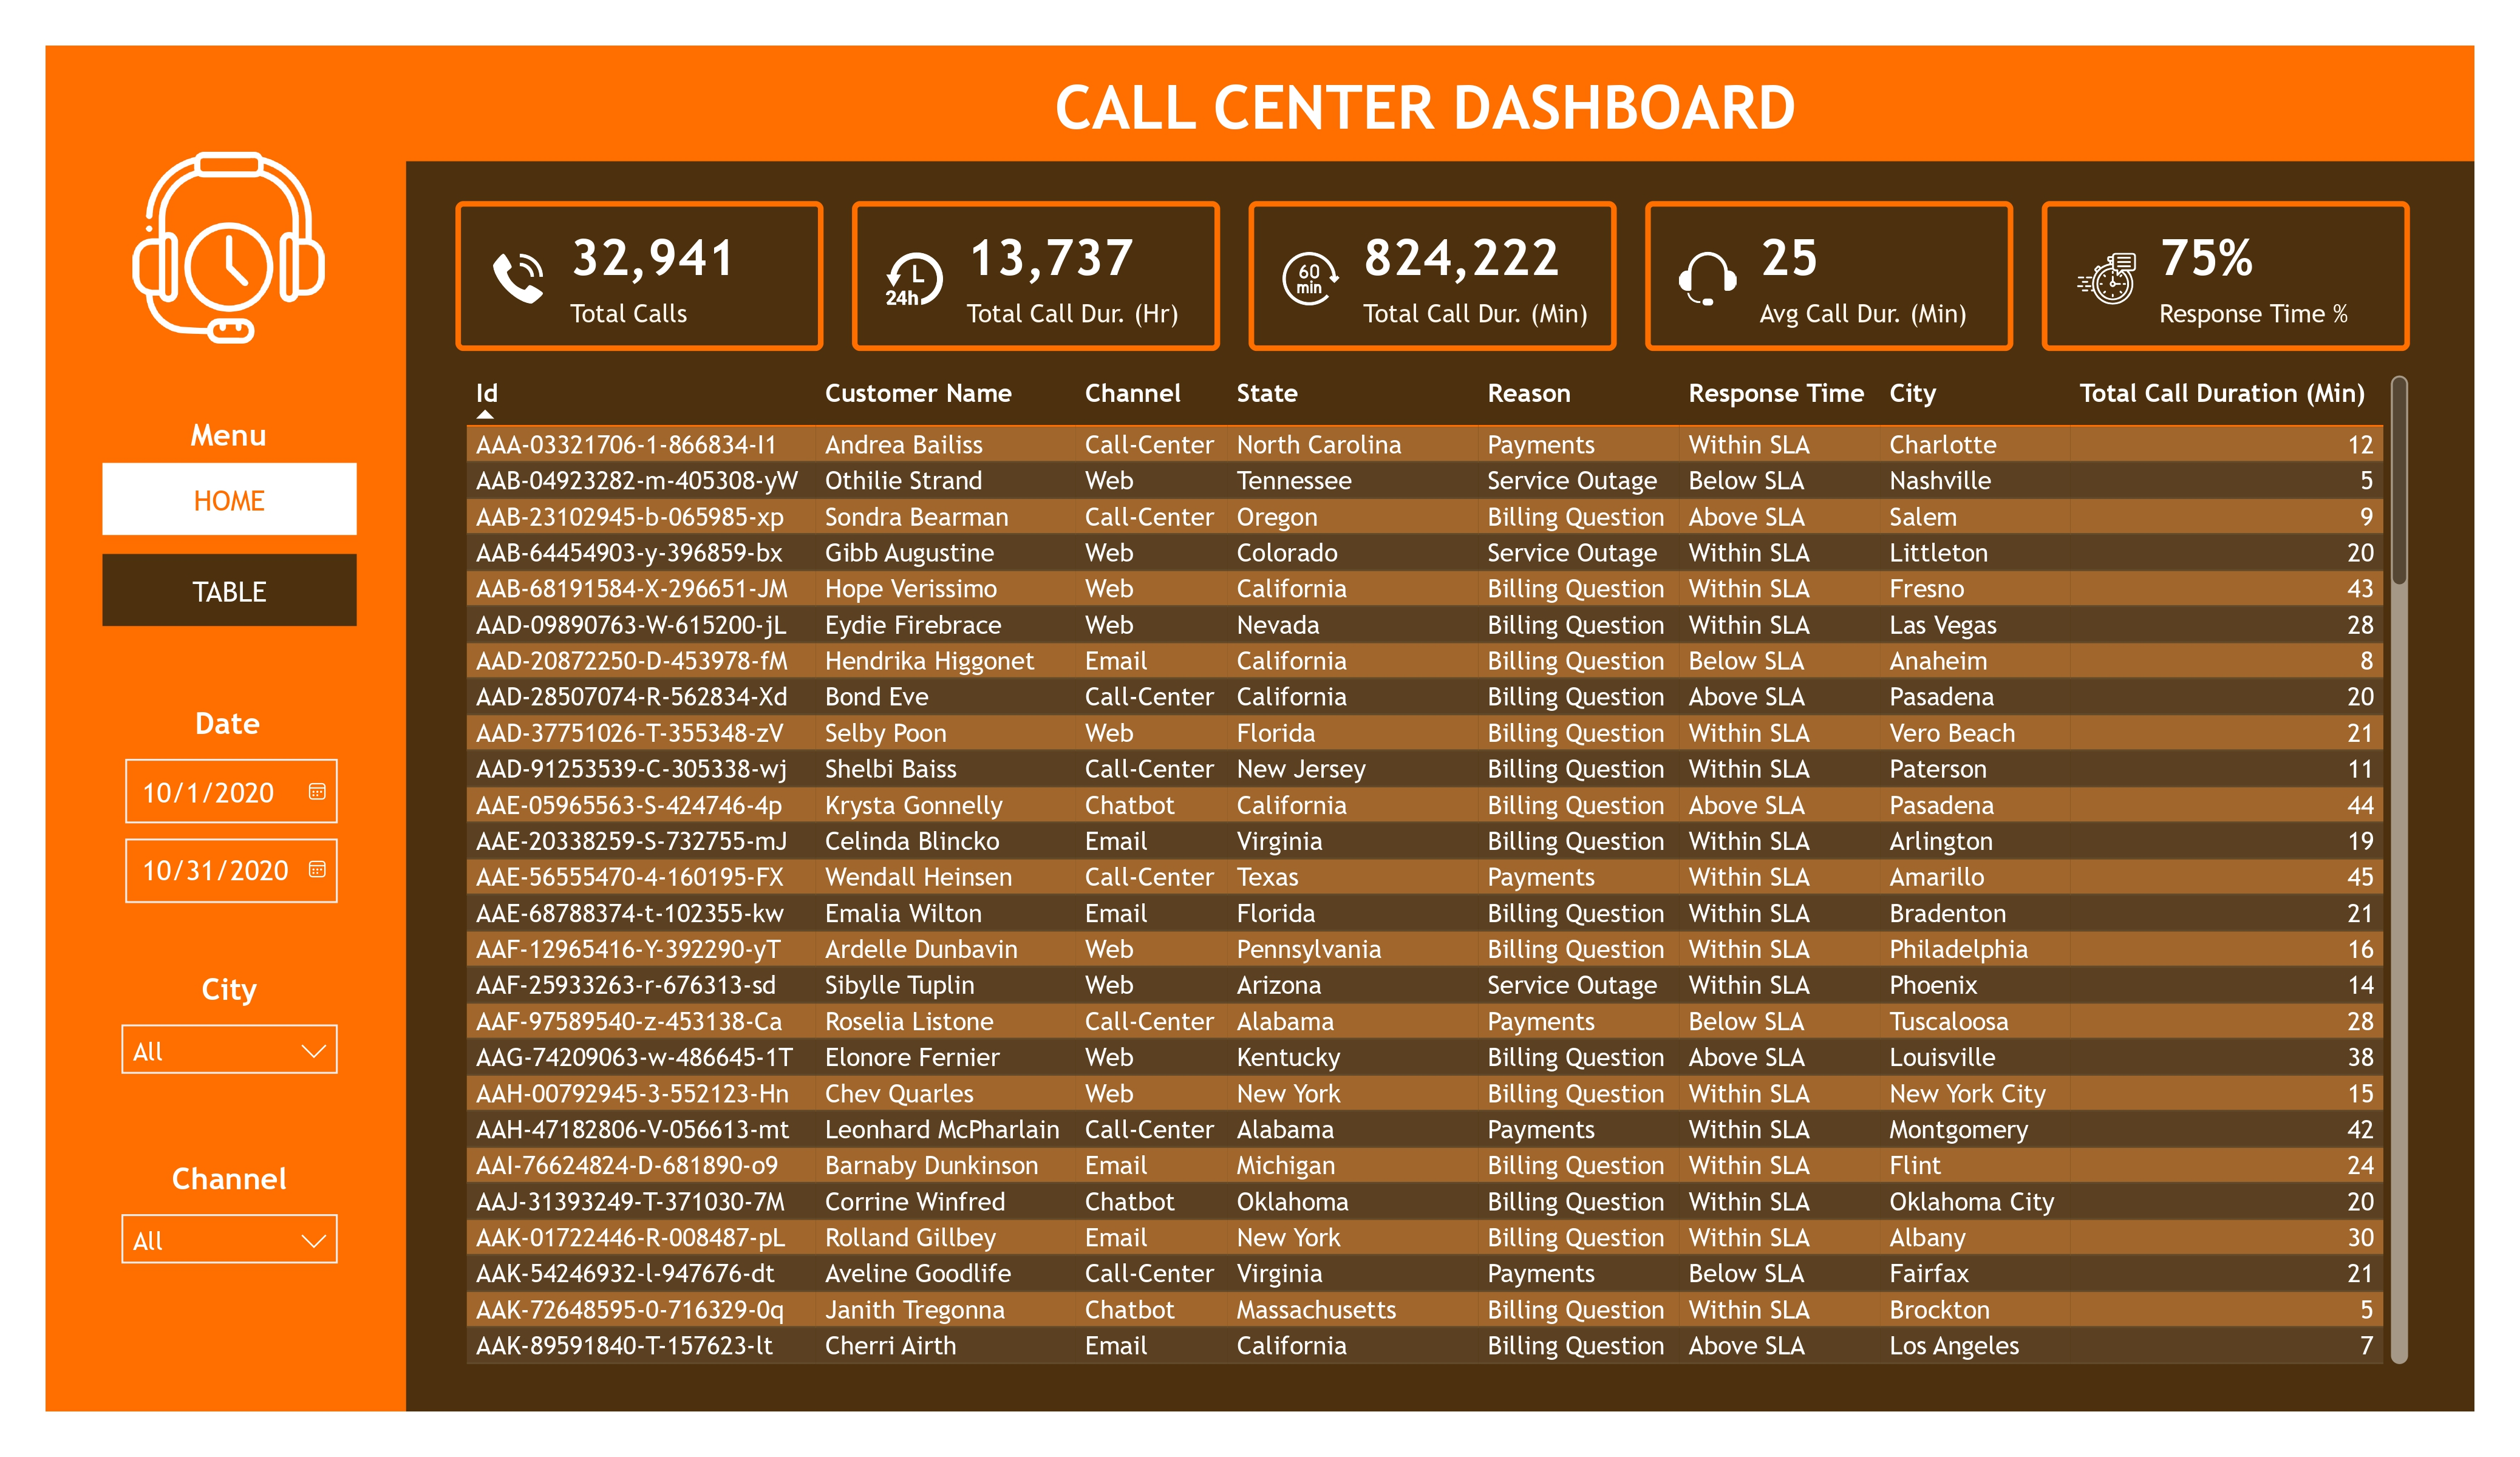

The dashboard page shown, as its layout file describes it:
{"tool":"powerbi","page":{"name":"TABLE","canvas":[1280,720],"ordinal":1},"visuals":[{"type":"shape","box":[0,0,1280,61.4],"z":0},{"type":"shape","box":[0,38.6,190,681.4],"z":1000},{"type":"cardVisual","fields":{"Data":["Call Center_Call Center.Total Calls","Call Center_Call Center.Total Call Duration (Hrs)","Call Center_Call Center.Total Call Duration (Min)","Call Center_Call Center.Average Call Duration (Min)","Call Center_Call Center.Response Time %"]},"box":[201.4,67.1,1061.4,108.6],"z":2000},{"type":"textbox","box":[201.4,8.6,1061.4,48.6],"z":3000},{"type":"tableEx","fields":{"Values":["Call Center_Call Center.Id","Call Center_Call Center.Customer Name","Call Center_Call Center.Channel","Call Center_Call Center.State","Call Center_Call Center.Reason","Call Center_Call Center.Response Time","Call Center_Call Center.City","Call Center_Call Center.Total Call Duration (Min)"]},"box":[215.7,175.7,1034.3,520],"z":4000},{"type":"image","box":[45.7,45.7,101.4,121.4],"z":5000},{"type":"slicer","title":"Date","fields":{"Values":["Date Table.Date"]},"box":[28.6,342.9,134.3,130],"z":6000},{"type":"slicer","title":"City","fields":{"Values":["Call Center_Call Center.City"]},"box":[30,482.9,134.3,81.4],"z":7000},{"type":"slicer","title":"Channel","fields":{"Values":["Call Center_Call Center.Channel"]},"box":[29.7,582.6,134.3,81.4],"z":8000},{"type":"pageNavigator","box":[30,220.4,134.3,85.7],"z":9000},{"type":"textbox","box":[57.1,191.9,90,28.6],"z":9001}]}

Visuals, with their boxes on the page's 1280x720 design canvas (x1, y1, x2, y2). These are canvas units, not pixel positions in the 2520x1457 screenshot, which may show the page scaled, cropped or inside an application window:
shape: box=[0, 0, 1280, 61]
shape: box=[0, 39, 190, 720]
cardVisual - Call Center_Call Center.Total Calls x Call Center_Call Center.Total Call Duration (Hrs): box=[201, 67, 1263, 176]
textbox: box=[201, 9, 1263, 57]
tableEx - Call Center_Call Center.Id x Call Center_Call Center.Customer Name: box=[216, 176, 1250, 696]
image: box=[46, 46, 147, 167]
"Date" slicer: box=[29, 343, 163, 473]
"City" slicer: box=[30, 483, 164, 564]
"Channel" slicer: box=[30, 583, 164, 664]
pageNavigator: box=[30, 220, 164, 306]
textbox: box=[57, 192, 147, 220]
